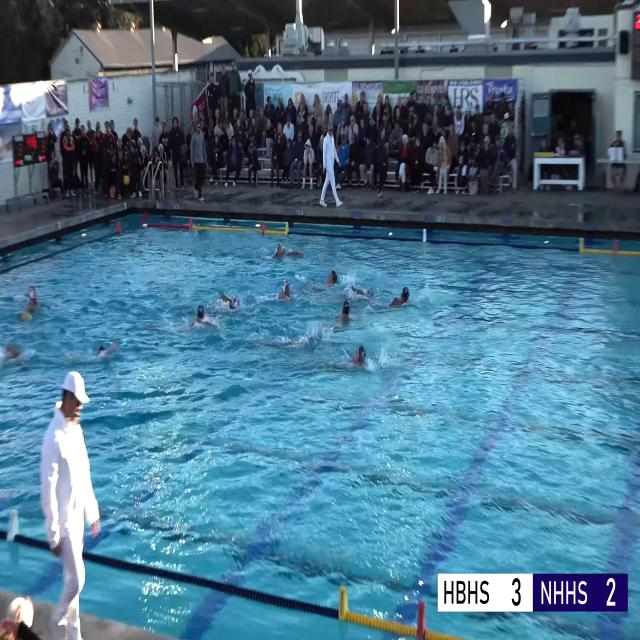ball: (22, 312, 32, 321), (124, 175, 129, 185)
